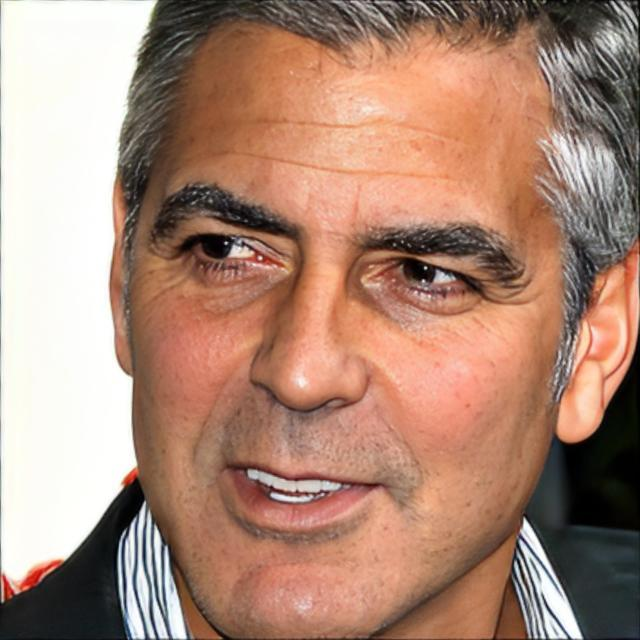content: (128, 23, 570, 640)
